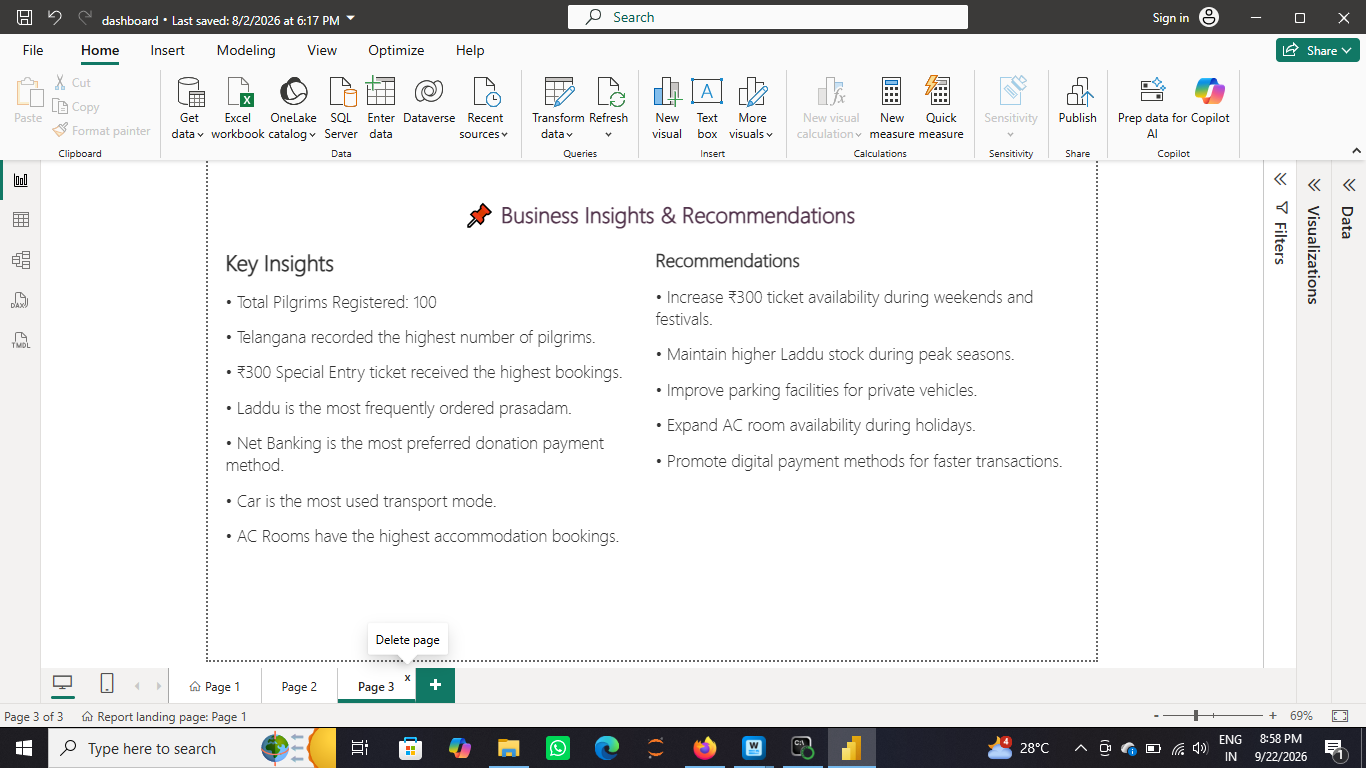

The dashboard page shown, as its layout file describes it:
{"tool":"powerbi","page":{"name":"Page 3","canvas":[1280,720],"ordinal":2},"visuals":[{"type":"textbox","box":[276.7,0,13.3,280],"z":0},{"type":"textbox","box":[150,420,300,300],"z":1000},{"type":"textbox","box":[0,0,150,280],"z":2000},{"type":"textbox","box":[365,50,915,70],"z":3000},{"type":"textbox","box":[20,120,600,600],"z":4000},{"type":"textbox","box":[620,181.7,246.7,538.3],"z":5000},{"type":"textbox","box":[640,120,640,361.7],"z":6000}]}

Visuals, with their boxes on the page's 1280x720 design canvas (x1, y1, x2, y2). These are canvas units, not pixel positions in the 1366x768 screenshot, which may show the page scaled, cropped or inside an application window:
textbox: crop(277, 0, 290, 280)
textbox: crop(150, 420, 450, 720)
textbox: crop(0, 0, 150, 280)
textbox: crop(365, 50, 1280, 120)
textbox: crop(20, 120, 620, 720)
textbox: crop(620, 182, 867, 720)
textbox: crop(640, 120, 1280, 482)
